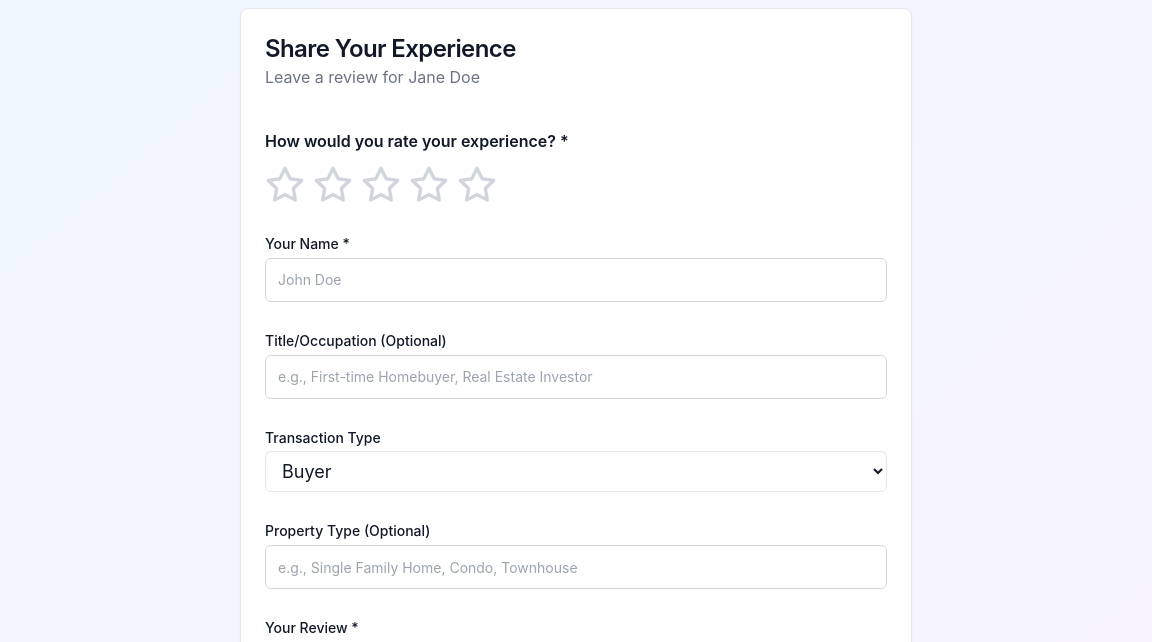
Test case: SubmitReview › tells the visitor the review is held for approval, not that it is live
Expected: the heading "Share Your Experience" is shown, [265,33,516,65]
Click the button named "5 stars": point(477, 185) [457,165,497,205]
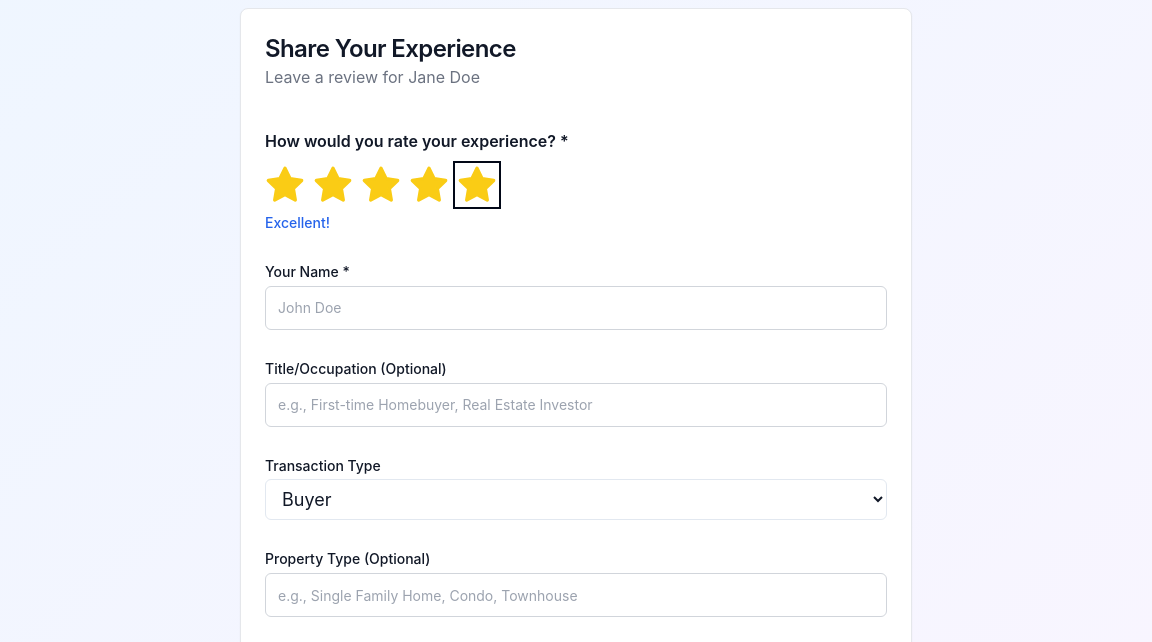
In the field labelled "Your Name *": point(576, 308) [265,286,887,330], type "Dana Rivers"
(page scrolled)
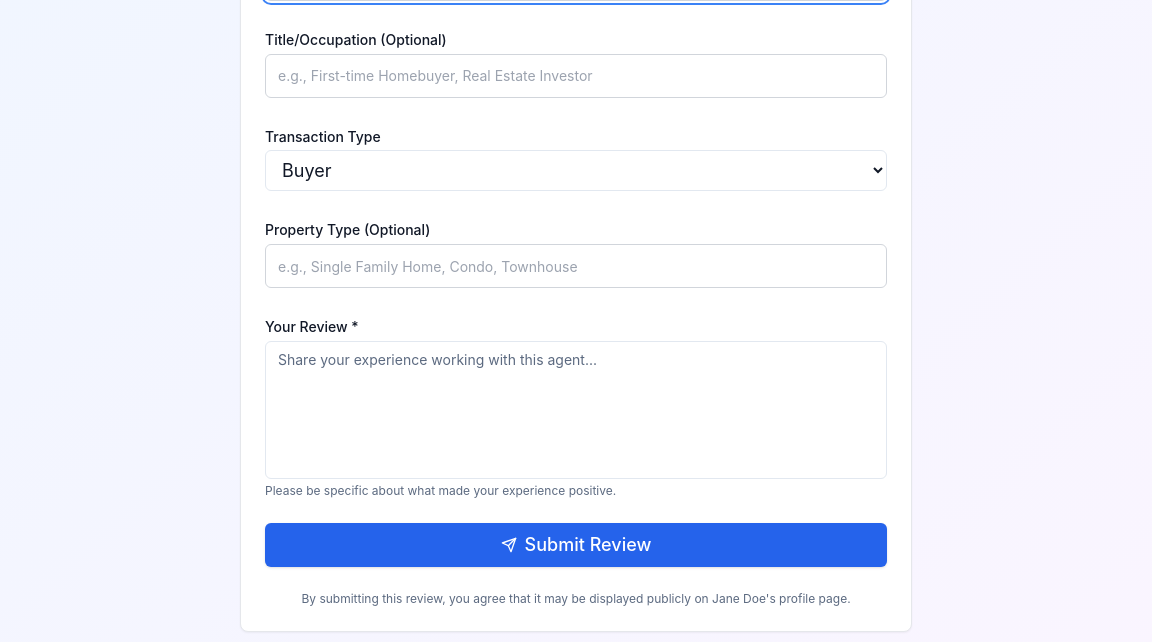
In the text box labelled "Your Review *": point(576, 410) [265,341,887,479], type "She talked us out of the wrong house before we could talk ourselves into it."
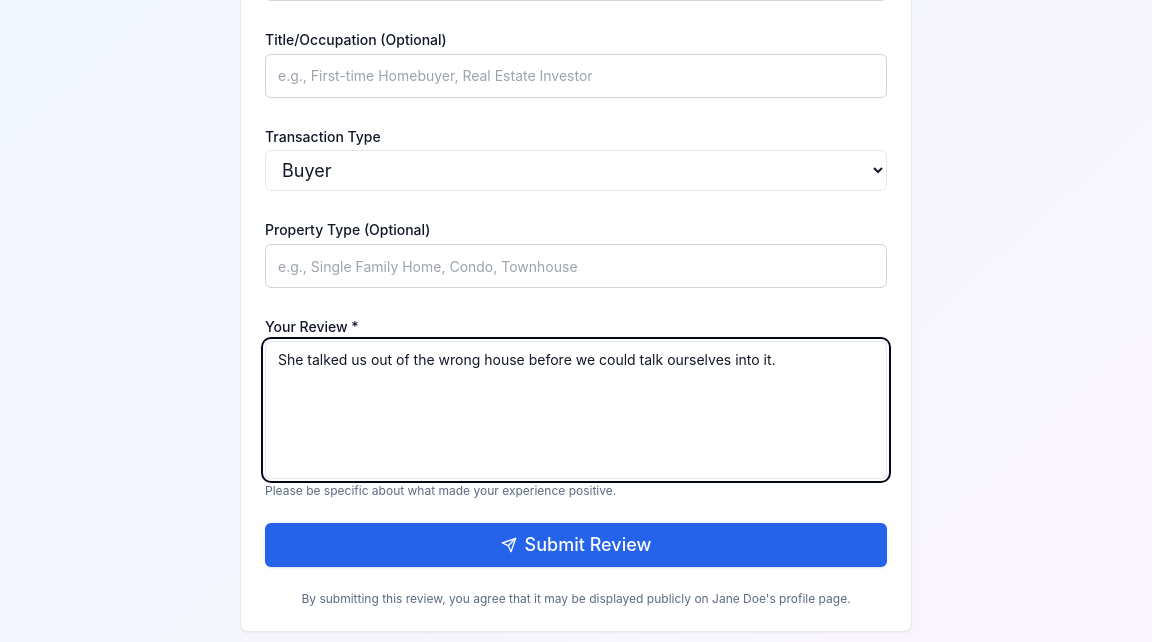
Click the button "Submit Review": point(576, 545) [265,523,887,567]
(page scrolled)
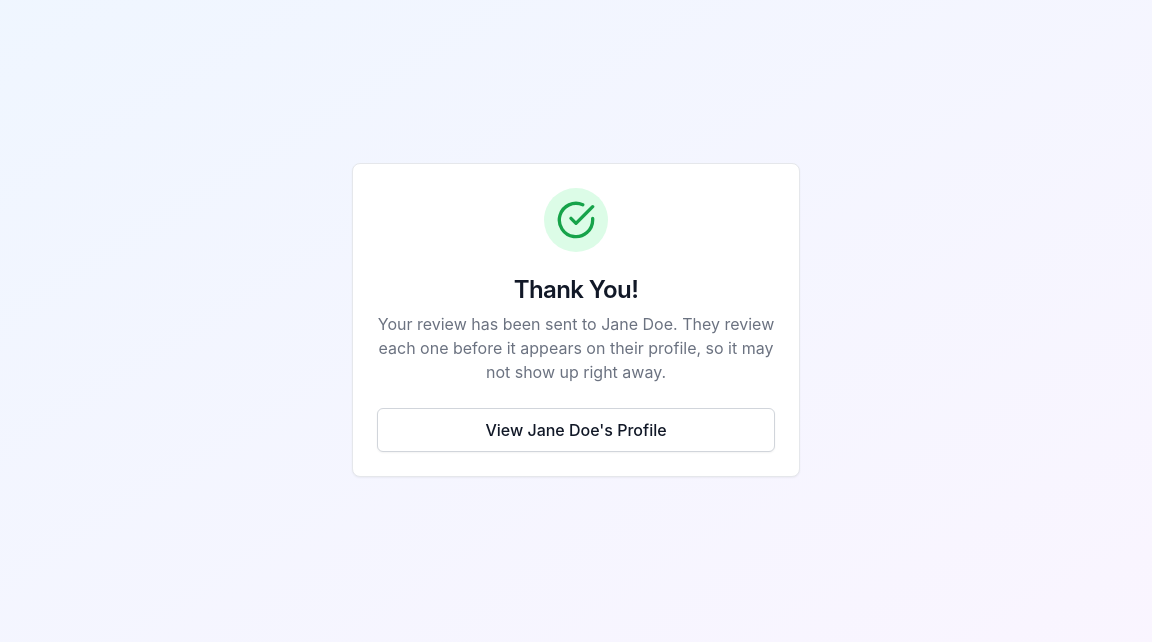
Result: the heading "Thank You!" is shown at [514,275,638,304]
Result: the text "review each one before it appears" is shown at [378,314,774,382]
